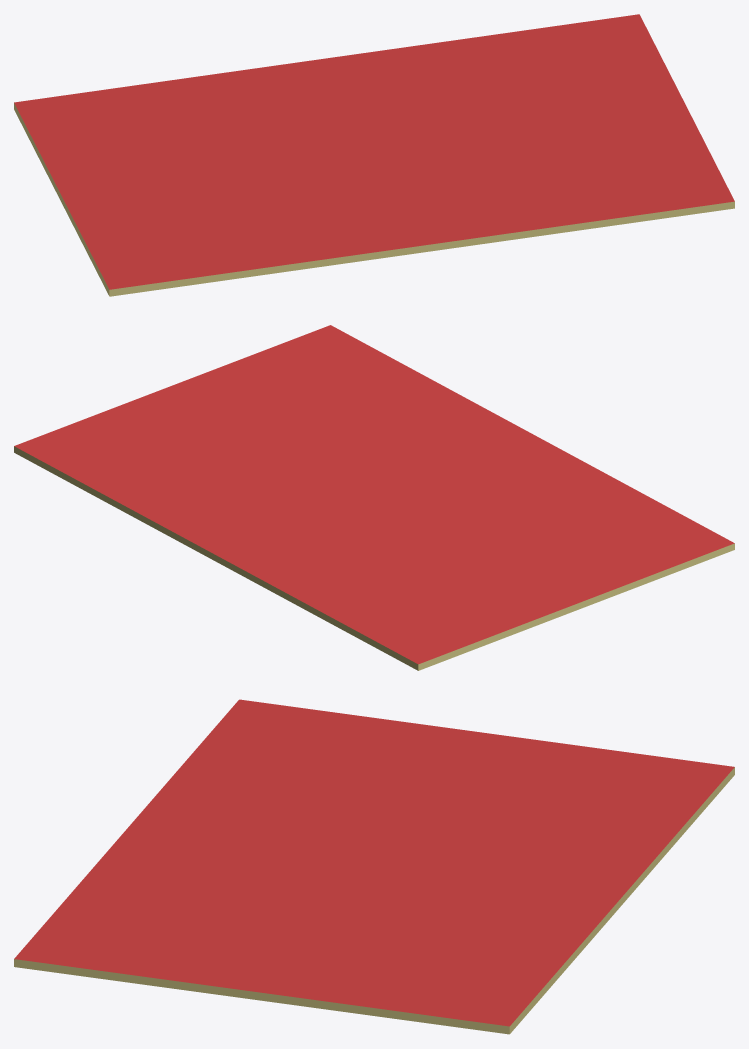
3 views of the same model, one above another, from view 1: azimuth 30°, elevation 25°; view 2: azimuth 150°, elevation 25°; view 3: azimuth 270°, elevation 25° (orthographic). The views are drawn at different scales.
Bounding box in the file's own units: 9.75 × 8.19 × 0.551.
